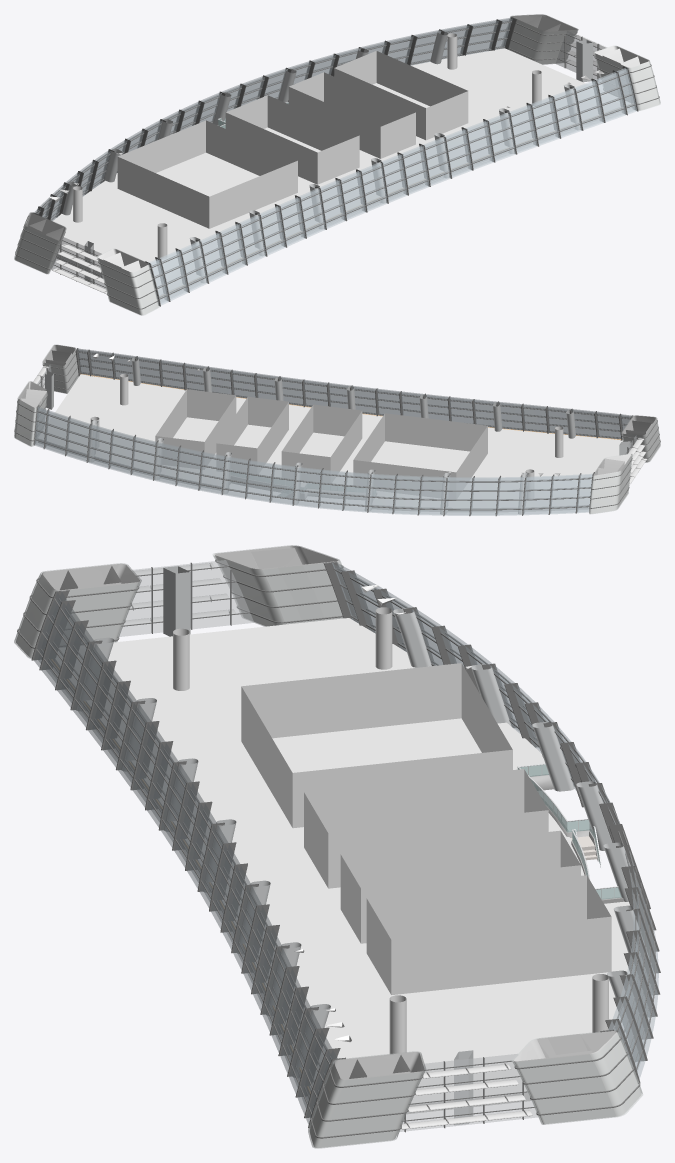
The picture shows the model from 3 angles, top to bottom: view 1: azimuth 30°, elevation 25°; view 2: azimuth 150°, elevation 25°; view 3: azimuth 270°, elevation 25°; orthographic projection. The views are drawn at different scales.
Parts seen in each view (by area): view 1: floor.068; view 2: floor.068; view 3: floor.068.
Boxes of the visible parts, x1,y1,x2,y2 form: floor.068: [14, 14, 660, 315]; floor.068: [14, 344, 660, 516]; floor.068: [14, 545, 660, 1148].
Size of the model in its own units: 78.8 by 4.48 by 39.86.
